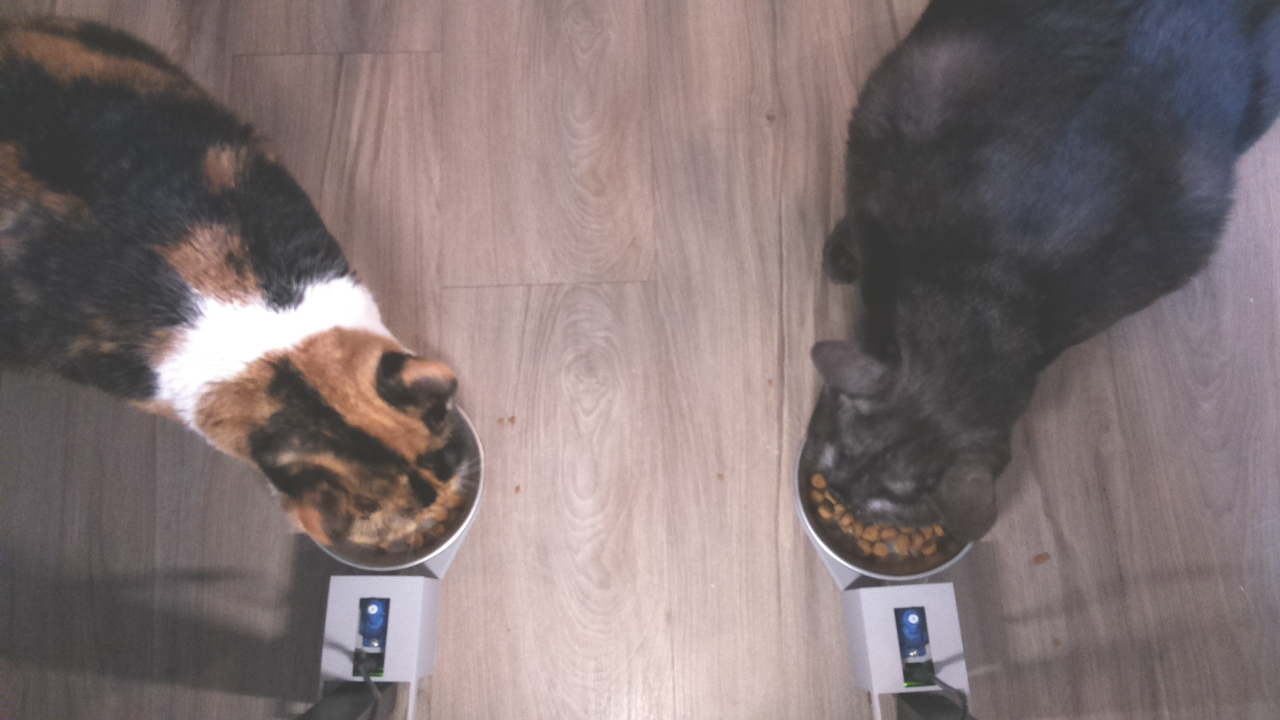bella_eating: (245, 273, 500, 585)
saki_eating: (776, 309, 1030, 587)
